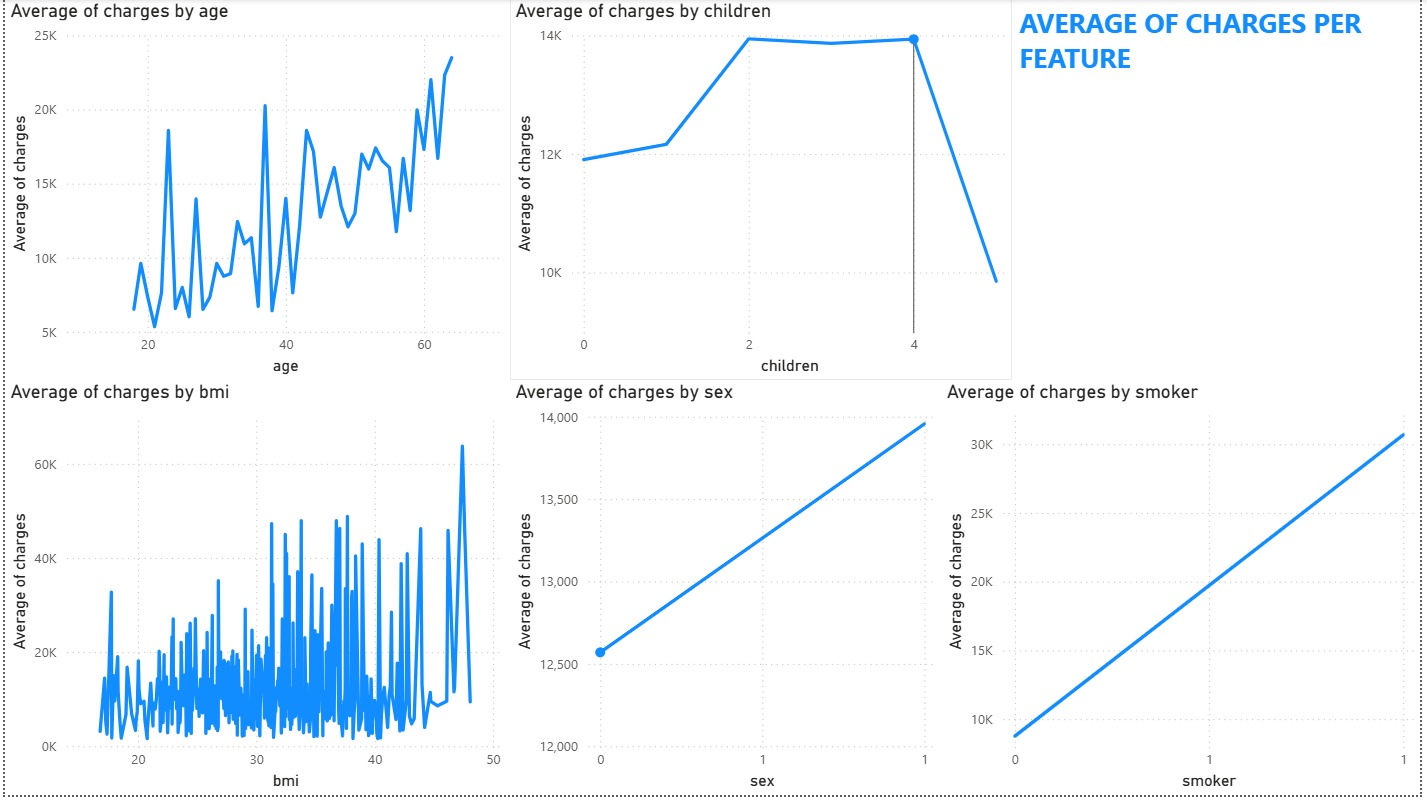

This screenshot's page, from the dashboard's own definition file:
{"tool":"powerbi","page":{"name":"Page 1","canvas":[1280,720],"ordinal":0},"visuals":[{"type":"lineChart","fields":{"Y":["Avg(insurance1.charges)"],"Category":["insurance1.age"]},"box":[0,0,456.7,345],"z":0},{"type":"lineChart","fields":{"Y":["Avg(insurance1.charges)"],"Category":["insurance1.bmi"]},"box":[0,345,456.7,375],"z":1000},{"type":"lineChart","fields":{"Y":["Avg(insurance1.charges)"],"Category":["insurance1.children"]},"box":[456.7,0,455,345],"z":1001},{"type":"lineChart","fields":{"Category":["insurance1.sex"],"Y":["Avg(insurance1.charges)"]},"box":[456.7,345,390,375],"z":1002},{"type":"lineChart","fields":{"Y":["Avg(insurance1.charges)"],"Category":["insurance1.smoker"]},"box":[846.9,344.9,433,375.4],"z":1003},{"type":"textbox","box":[912,0,368,302],"z":1004}]}

Visuals, with their boxes in screenshot pixels (x1, y1, x2, y2), scaled from the page's 1280x720 canvas onto the 1427x803 screenshot:
lineChart - Avg(insurance1.charges) x insurance1.age: <bbox>0, 0, 509, 385</bbox>
lineChart - Avg(insurance1.charges) x insurance1.bmi: <bbox>0, 385, 509, 802</bbox>
lineChart - Avg(insurance1.charges) x insurance1.children: <bbox>509, 0, 1016, 385</bbox>
lineChart - insurance1.sex x Avg(insurance1.charges): <bbox>509, 385, 944, 802</bbox>
lineChart - Avg(insurance1.charges) x insurance1.smoker: <bbox>944, 385, 1426, 802</bbox>
textbox: <bbox>1017, 0, 1426, 337</bbox>
